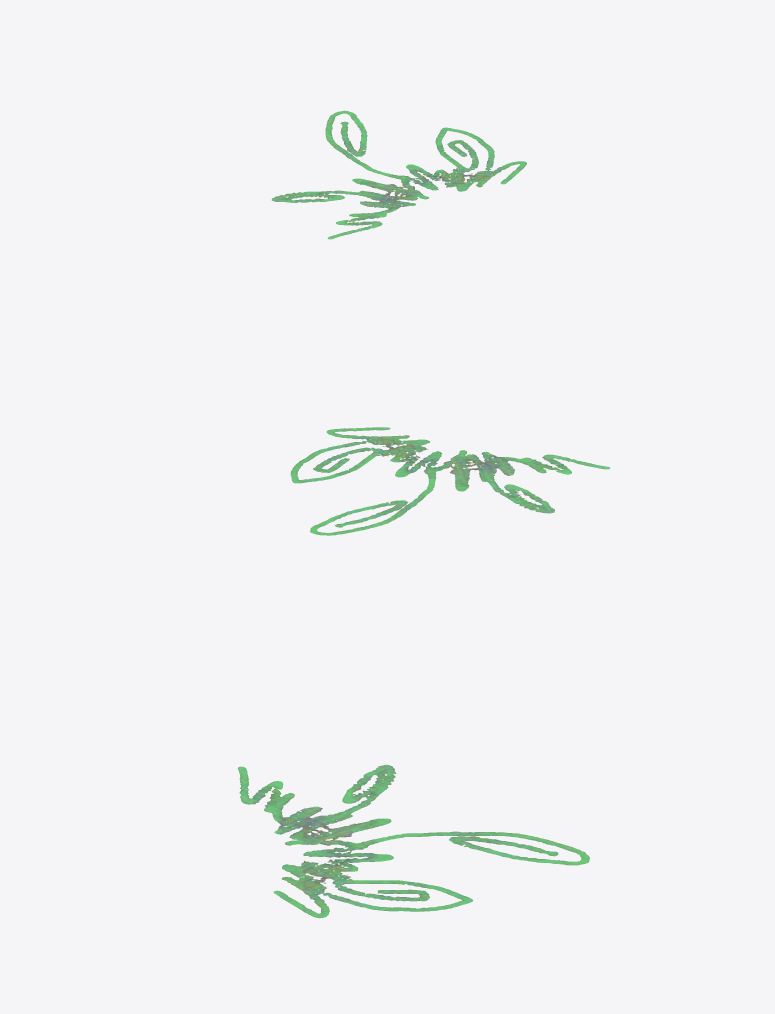
Rendered from DecaleG.FBX.
3 renders of one model, top to bottom at view 1: azimuth 30°, elevation 25°; view 2: azimuth 150°, elevation 25°; view 3: azimuth 270°, elevation 25°, orthographic. The views are drawn at different scales.
Parts seen in each view (by area): view 1: Object012; view 2: Object012; view 3: Object012.
Part boxes in pixels (x1,y1,x2,y2): Object012: [271, 110, 526, 239]; Object012: [290, 427, 610, 535]; Object012: [237, 764, 589, 918].
Size of the model in its own units: 1.8 by 1.36e-07 by 1.8.
